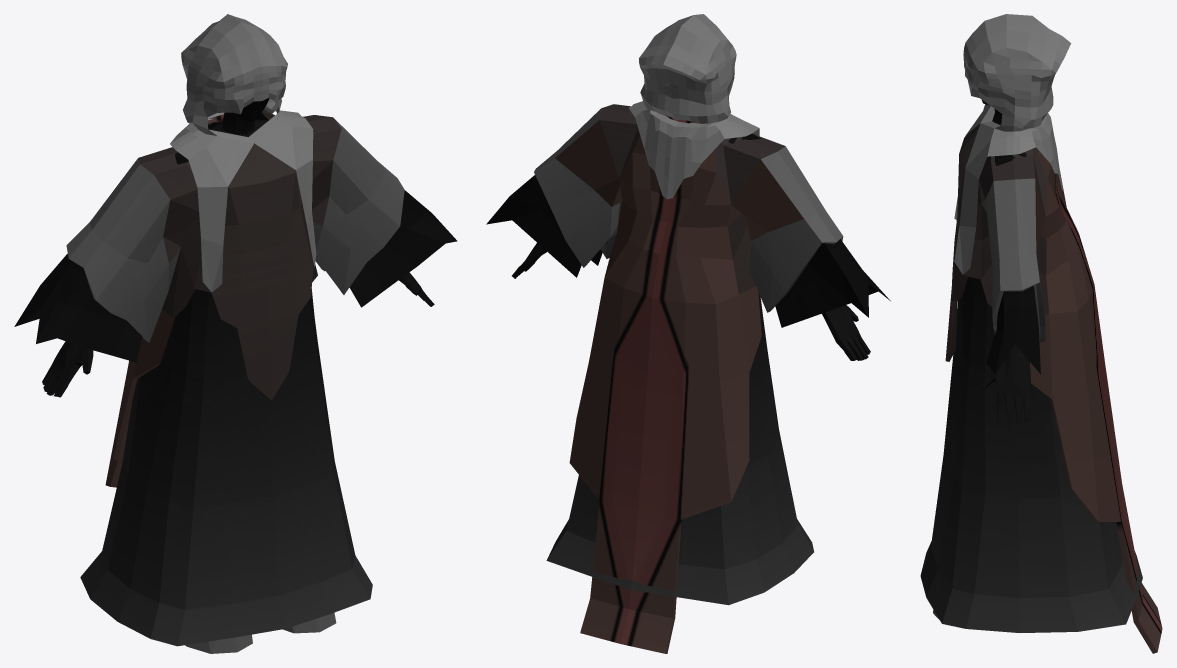
The model's file is ACOLITO.fbx.
3 views of the same model, side by side, from view 1: azimuth 30°, elevation 25°; view 2: azimuth 150°, elevation 25°; view 3: azimuth 270°, elevation 25° (orthographic). The views are drawn at different scales.
Parts seen in each view (by area): view 1: CAPUCHA, CUERPO; view 2: CAPUCHA, CUERPO; view 3: CAPUCHA, CUERPO.
Part boxes in pixels (left/top/right/bottom): CAPUCHA: left=14, top=14, right=457, bottom=646; CUERPO: left=42, top=98, right=434, bottom=653; CAPUCHA: left=486, top=14, right=890, bottom=653; CUERPO: left=512, top=137, right=870, bottom=360; CAPUCHA: left=920, top=14, right=1162, bottom=653; CUERPO: left=933, top=100, right=1031, bottom=619.
Bounding box in the file's own units: 128 × 184 × 65.27.
